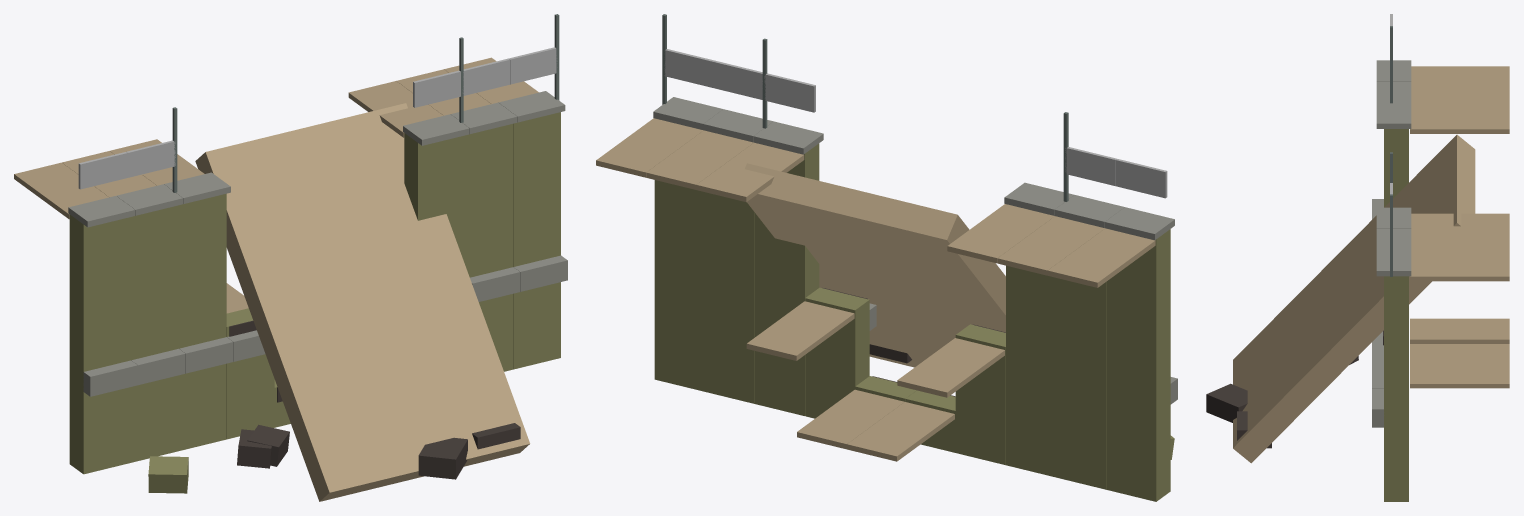
Rendered from SM_MuroRampa_v0_Alto_e3_Brecha_LOD1.fbx.
3 views of the same model, side by side, from view 1: azimuth 30°, elevation 25°; view 2: azimuth 150°, elevation 25°; view 3: azimuth 270°, elevation 25° (orthographic). The views are drawn at different scales.
Visible parts, largest first — view 1: SM_muro_rampa_v3_LOD1; view 2: SM_muro_rampa_v3_LOD1; view 3: SM_muro_rampa_v3_LOD1.
Part boxes in pixels (x1,y1,x2,y2): SM_muro_rampa_v3_LOD1: [14, 14, 567, 501]; SM_muro_rampa_v3_LOD1: [596, 14, 1177, 501]; SM_muro_rampa_v3_LOD1: [1206, 14, 1509, 501].
Bounding box in the file's own units: 10.03 × 7.07 × 6.09.
